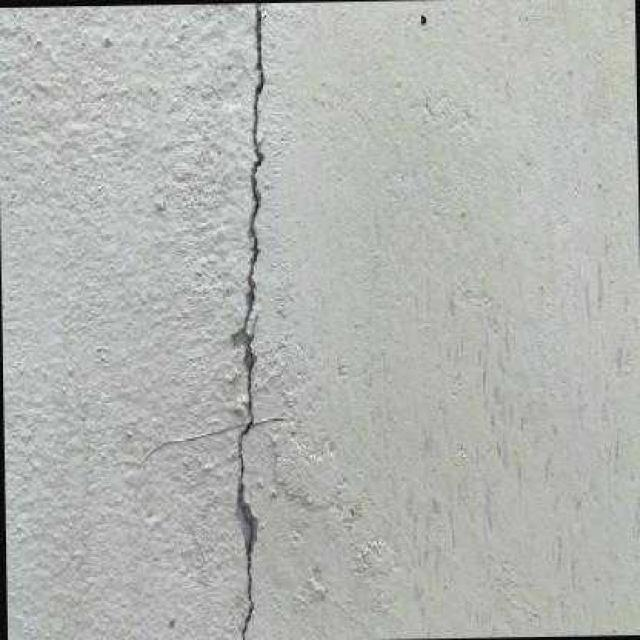D00: (236, 8, 264, 640)
